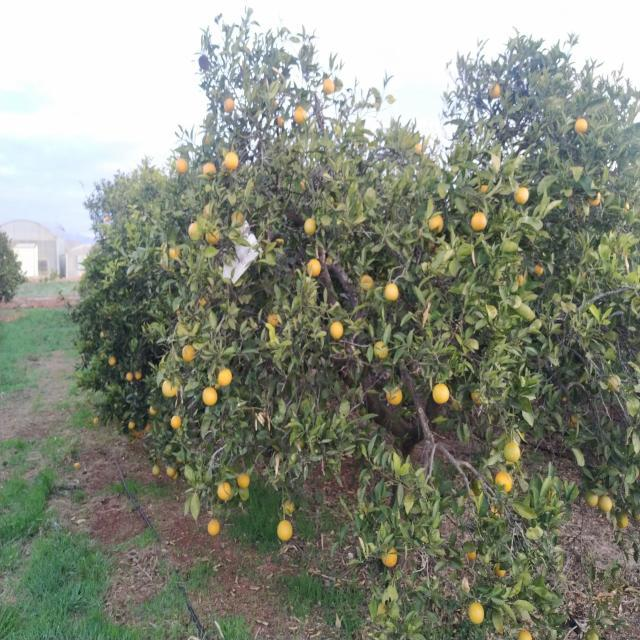Jeruk Belum Matang: (504, 442, 522, 464), (374, 341, 388, 359), (600, 494, 612, 512), (585, 492, 599, 507), (304, 218, 316, 234), (584, 630, 601, 640), (616, 514, 628, 528), (152, 466, 161, 476)
Jeruk Sudah Matang: (495, 471, 512, 495), (276, 520, 294, 542), (381, 546, 398, 568), (432, 384, 450, 404), (468, 602, 484, 624), (386, 387, 404, 405), (384, 282, 400, 302), (202, 387, 218, 406), (428, 216, 445, 233), (162, 380, 178, 398), (217, 482, 232, 501), (308, 258, 322, 278), (224, 152, 239, 170), (217, 369, 232, 387), (471, 212, 486, 230), (514, 188, 529, 205), (294, 107, 308, 125), (188, 222, 202, 240), (182, 345, 196, 363), (205, 228, 220, 244), (207, 518, 220, 536), (574, 118, 588, 134), (488, 84, 502, 100), (330, 322, 343, 339), (175, 158, 188, 174), (237, 472, 250, 488), (360, 274, 373, 290), (322, 78, 334, 95), (282, 499, 294, 515), (202, 162, 216, 175), (168, 247, 182, 260), (494, 562, 506, 577), (517, 629, 532, 640), (268, 312, 278, 328), (231, 212, 244, 224), (170, 416, 182, 428), (224, 98, 234, 112), (166, 464, 176, 476), (466, 550, 478, 560), (534, 265, 544, 276), (125, 372, 134, 382), (276, 117, 284, 127), (108, 356, 116, 366), (150, 406, 158, 416), (415, 143, 422, 153), (134, 372, 142, 380), (128, 421, 135, 430)
